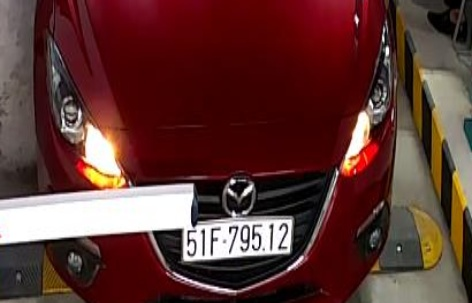plate: (172, 216, 296, 262)
